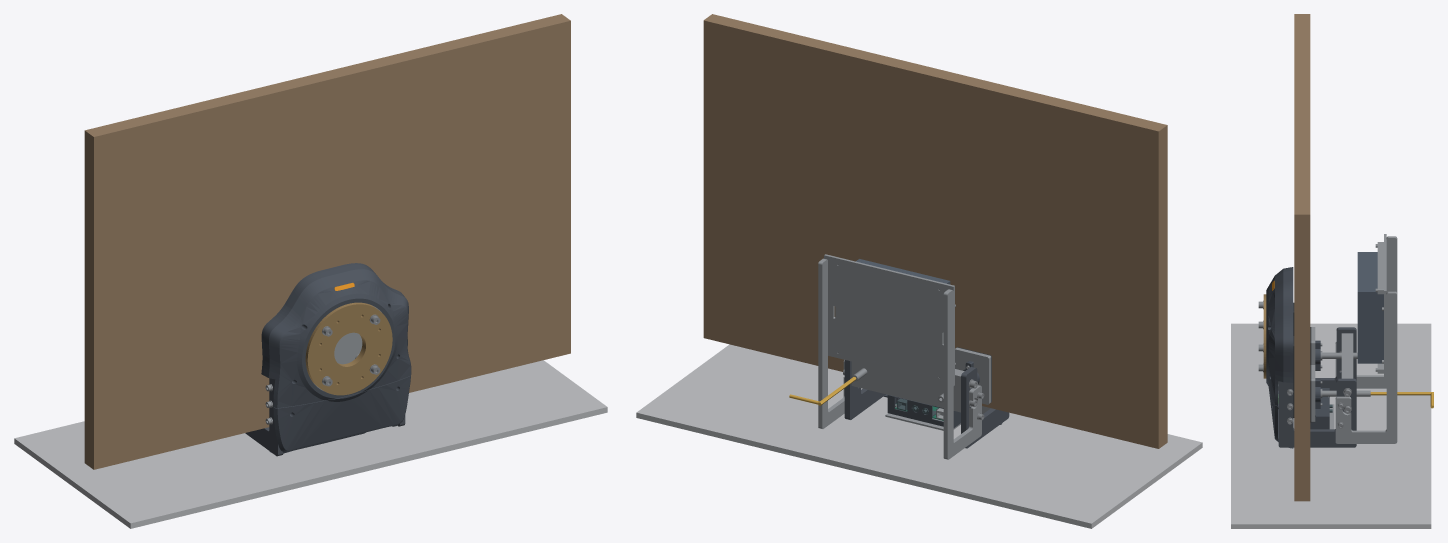
Rendered from ODR-BASE-B04-P2.glb.
3 renders of one model, left to right at view 1: azimuth 30°, elevation 25°; view 2: azimuth 150°, elevation 25°; view 3: azimuth 270°, elevation 25°, orthographic. The views are drawn at different scales.
Visible parts, largest first — view 1: ENV-DESK, ENV-WALL, B04-301-COVER-FRONT, B04-301-COVER-REAR, B04-104-FLANGE, B04-102-CPLATE-L, B04-101-DECK; view 2: ENV-DESK, ENV-WALL, B04-202-TRAY, B04-201-CRADLE-L, B04-103-BRIDGE, B04-201-CRADLE-R, B04-102-CPLATE-L, B04-102-CPLATE-R, B04-107-PRESSPAD--1, B04-402-PORT-HOOD; view 3: ENV-WALL, ENV-DESK, B04-301-COVER-FRONT, B04-201-CRADLE-R, ENV-CONTROLLER, B04-102-CPLATE-R, B04-201-CRADLE-L, B04-102-CPLATE-L, B04-103-BRIDGE, B04-402-PORT-HOOD, B04-202-TRAY, B04-203-STOP-FRONT (+4 smaller).
Part boxes in pixels (box(x1,y1,x2,y2)): ENV-DESK: box(84, 14, 570, 469); ENV-WALL: box(14, 360, 607, 528); B04-301-COVER-FRONT: box(261, 263, 411, 408); B04-301-COVER-REAR: box(269, 374, 411, 453); B04-104-FLANGE: box(305, 302, 392, 395); B04-102-CPLATE-L: box(245, 378, 283, 456); B04-101-DECK: box(314, 305, 381, 390); ENV-DESK: box(703, 14, 1167, 448); ENV-WALL: box(636, 344, 1202, 528); B04-202-TRAY: box(824, 254, 954, 385); B04-201-CRADLE-L: box(943, 289, 981, 459); B04-103-BRIDGE: box(851, 361, 964, 412); B04-201-CRADLE-R: box(818, 258, 844, 428); B04-102-CPLATE-L: box(961, 367, 1009, 448); B04-102-CPLATE-R: box(844, 360, 885, 419); B04-107-PRESSPAD--1: box(955, 347, 991, 404); B04-402-PORT-HOOD: box(887, 395, 960, 427); ENV-WALL: box(1231, 323, 1431, 528); ENV-DESK: box(1294, 14, 1310, 501); B04-301-COVER-FRONT: box(1266, 267, 1293, 405); B04-201-CRADLE-R: box(1335, 291, 1397, 443); ENV-CONTROLLER: box(1357, 252, 1383, 363); B04-102-CPLATE-R: box(1278, 378, 1356, 447); B04-201-CRADLE-L: box(1335, 236, 1397, 388); B04-102-CPLATE-L: box(1315, 327, 1356, 390); B04-103-BRIDGE: box(1341, 333, 1353, 378); B04-402-PORT-HOOD: box(1310, 388, 1329, 429); B04-202-TRAY: box(1384, 234, 1386, 380); B04-203-STOP-FRONT: box(1377, 242, 1383, 294).
Size of the model in its own units: 0.9 by 0.658 by 0.3846.
